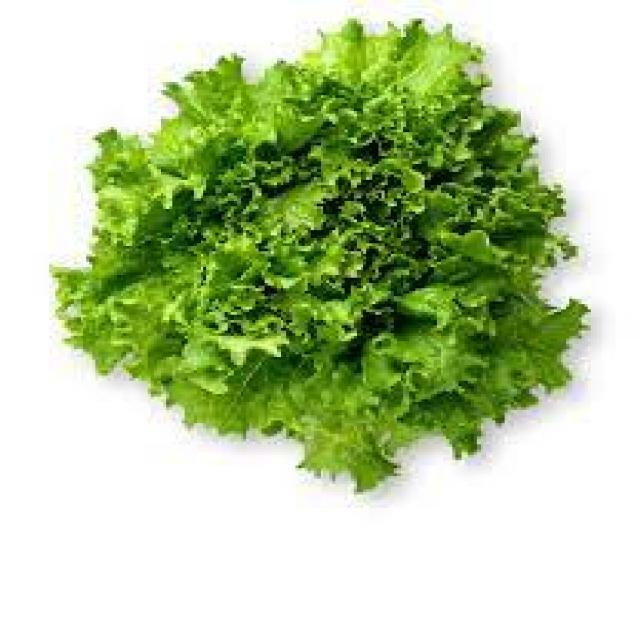Lettuce: (67, 20, 593, 488)
